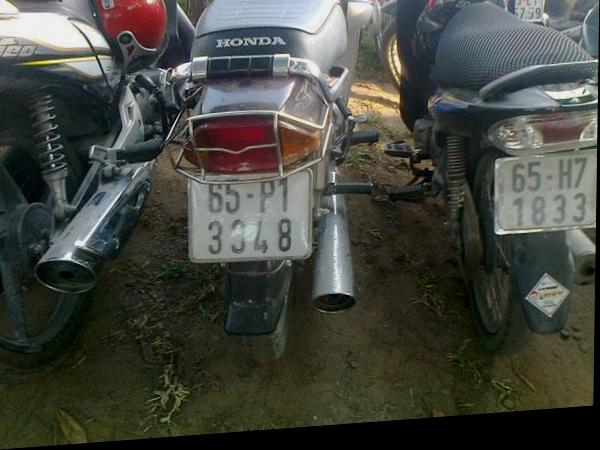License_Plate: (193, 170, 310, 264)
